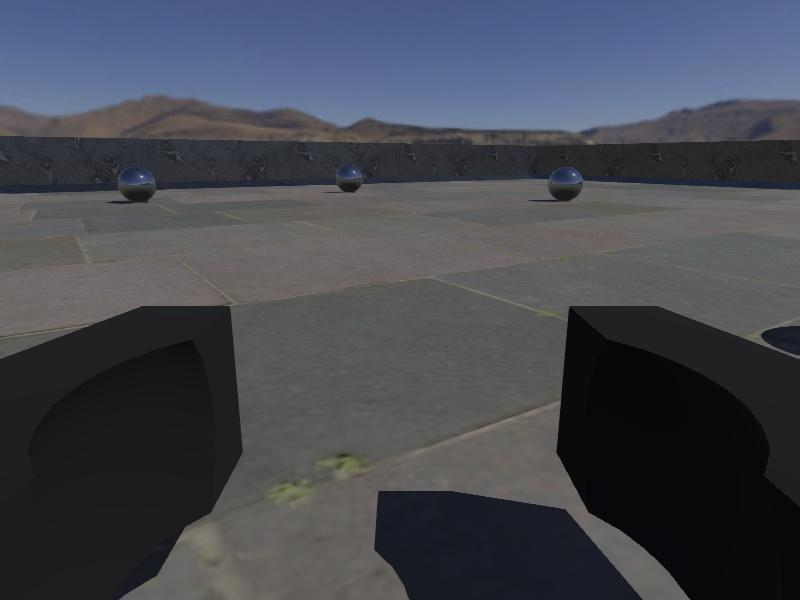steel ball: (116, 166, 156, 204), (547, 165, 585, 202), (335, 165, 365, 194)
